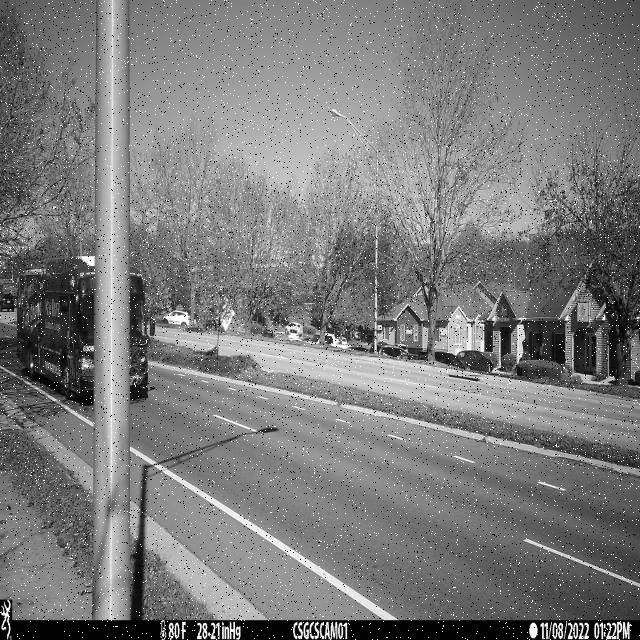Bus: (17, 256, 96, 405), (129, 266, 156, 401)
